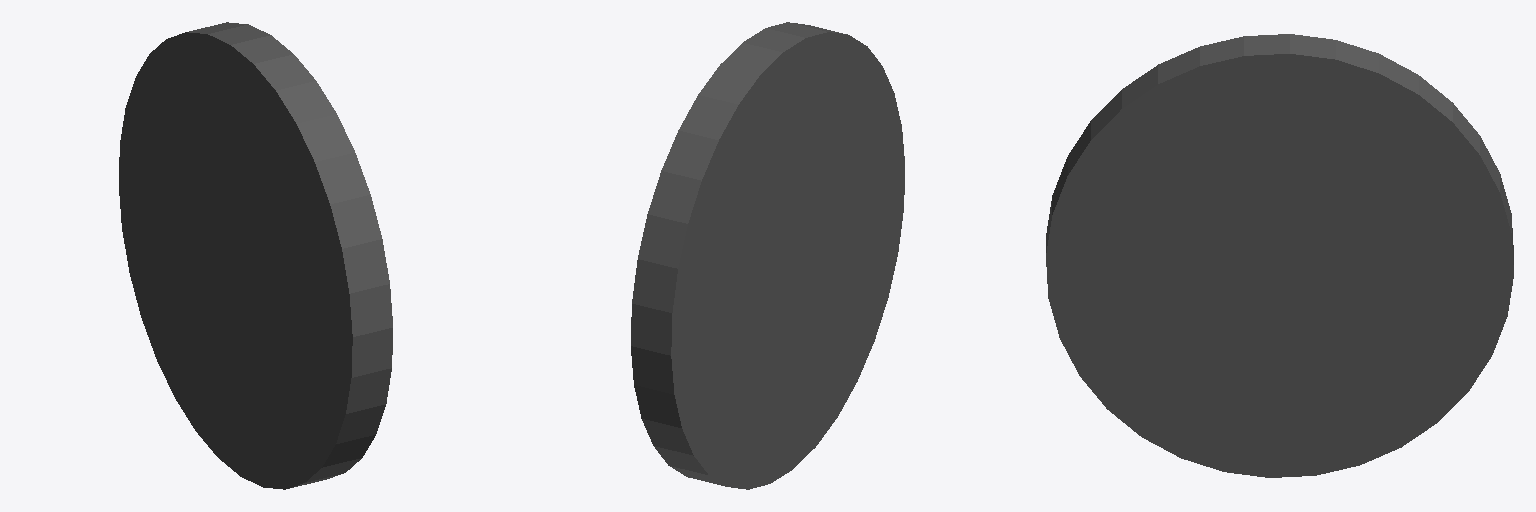
The model's file is coin.obj.
3 views of the same model, side by side, from view 1: azimuth 30°, elevation 25°; view 2: azimuth 150°, elevation 25°; view 3: azimuth 270°, elevation 25° (orthographic).
Visible parts, largest first — view 1: Cylinder; view 2: Cylinder; view 3: Cylinder.
Boxes of the visible parts, x1=… form: Cylinder: x1=119, y1=22, x2=392, y2=489; Cylinder: x1=631, y1=22, x2=904, y2=489; Cylinder: x1=1046, y1=34, x2=1513, y2=477.
Size of the model in its own units: 0.05 by 0.4995 by 0.4995.